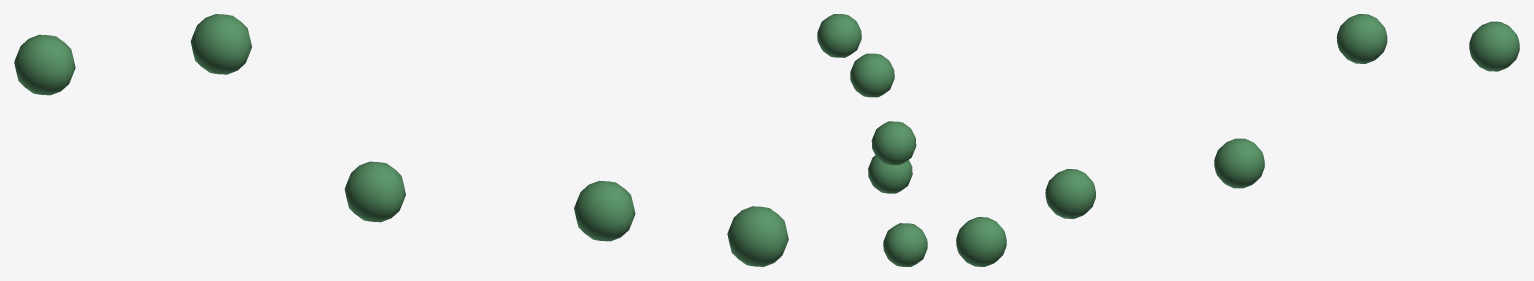
3 renders of one model, left to right at view 1: azimuth 30°, elevation 25°; view 2: azimuth 150°, elevation 25°; view 3: azimuth 270°, elevation 25°, orthographic. The views are drawn at different scales.
Visible parts, largest first — view 1: 右侧臂淋巴结; view 2: 右侧臂淋巴结; view 3: 右侧臂淋巴结.
Part boxes in pixels (box(x1,y1,x2,y2)): 右侧臂淋巴结: box(14, 14, 788, 266); 右侧臂淋巴结: box(817, 14, 927, 266); 右侧臂淋巴结: box(956, 14, 1519, 266).
Bounding box in the file's own units: 0.0325 × 0.0115 × 0.0424.
